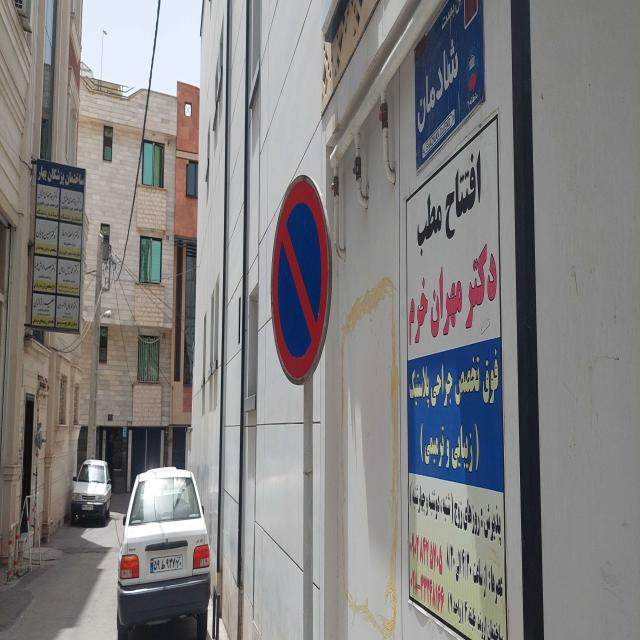forb_stopping: (270, 173, 333, 386)
